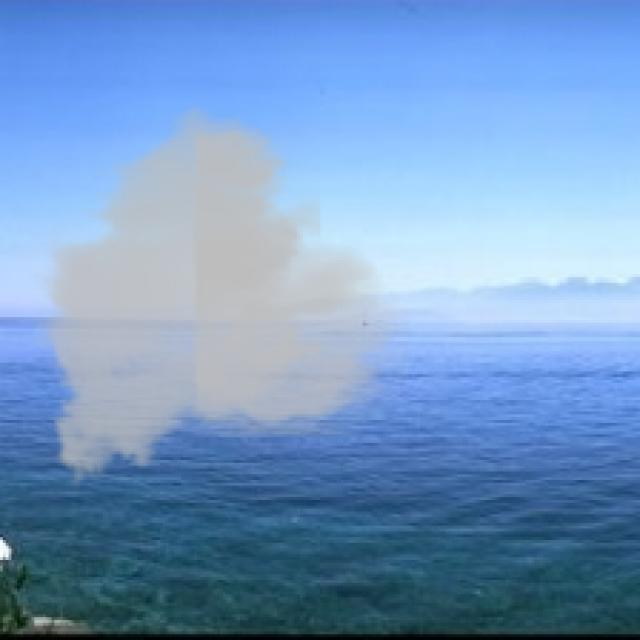Smoke: (29, 94, 408, 497)
